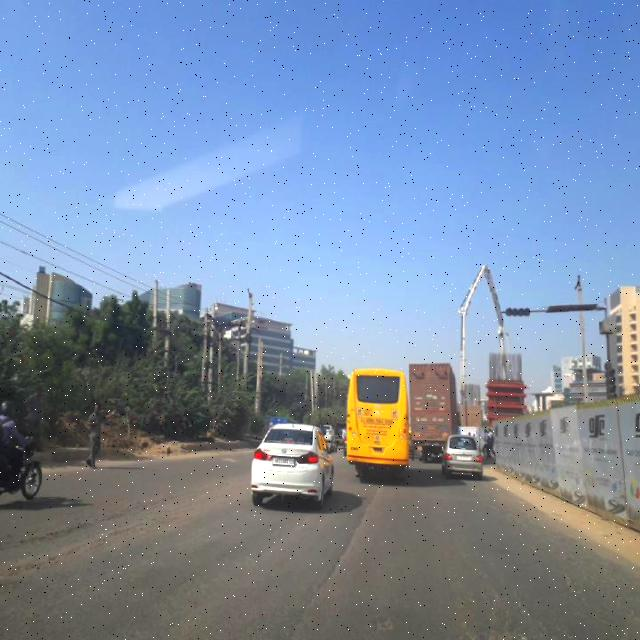D20: (514, 496, 639, 639), (433, 572, 550, 634)
